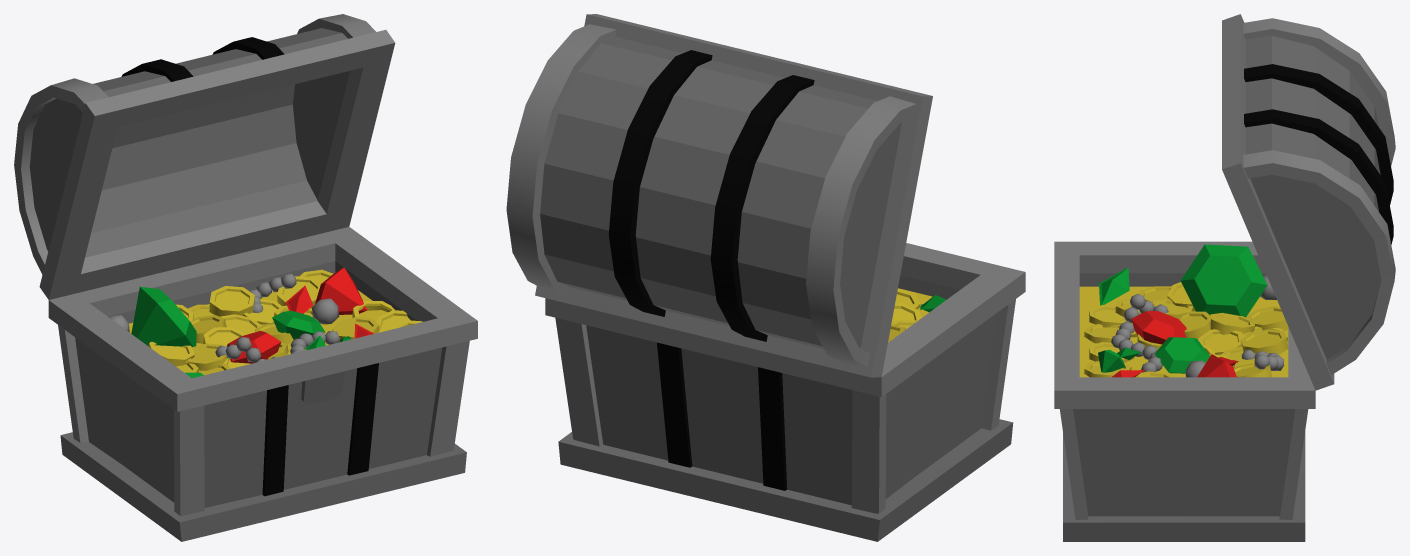
File: TreasurechestOpen.fbx
3 views of the same model, side by side, from view 1: azimuth 30°, elevation 25°; view 2: azimuth 150°, elevation 25°; view 3: azimuth 270°, elevation 25° (orthographic). The views are drawn at different scales.
Parts seen in each view (by area): view 1: frame, box, Coin, etc, gemstone1, gemstone2, necklace, Pearl; view 2: box, frame, etc, Coin; view 3: box, frame, Coin, gemstone1, etc, gemstone2, necklace, Pearl.
Boxes of the visible parts, <box> form: frame: <box>14,14,477,541</box>; box: <box>29,28,442,507</box>; Coin: <box>129,269,422,375</box>; etc: <box>121,37,378,496</box>; gemstone1: <box>131,287,350,378</box>; gemstone2: <box>227,267,373,363</box>; necklace: <box>215,273,340,362</box>; Pearl: <box>109,298,339,332</box>; box: <box>540,36,996,505</box>; frame: <box>506,14,1025,541</box>; etc: <box>608,50,814,490</box>; Coin: <box>888,288,932,342</box>; box: <box>1073,35,1380,516</box>; frame: <box>1054,14,1395,541</box>; Coin: <box>1079,282,1288,377</box>; gemstone1: <box>1098,244,1267,373</box>; etc: <box>1244,64,1393,244</box>; gemstone2: <box>1112,311,1238,377</box>; necklace: <box>1111,294,1284,372</box>; Pearl: <box>1185,274,1276,377</box>.
Bounding box in the file's own units: 440 × 527 × 426.
